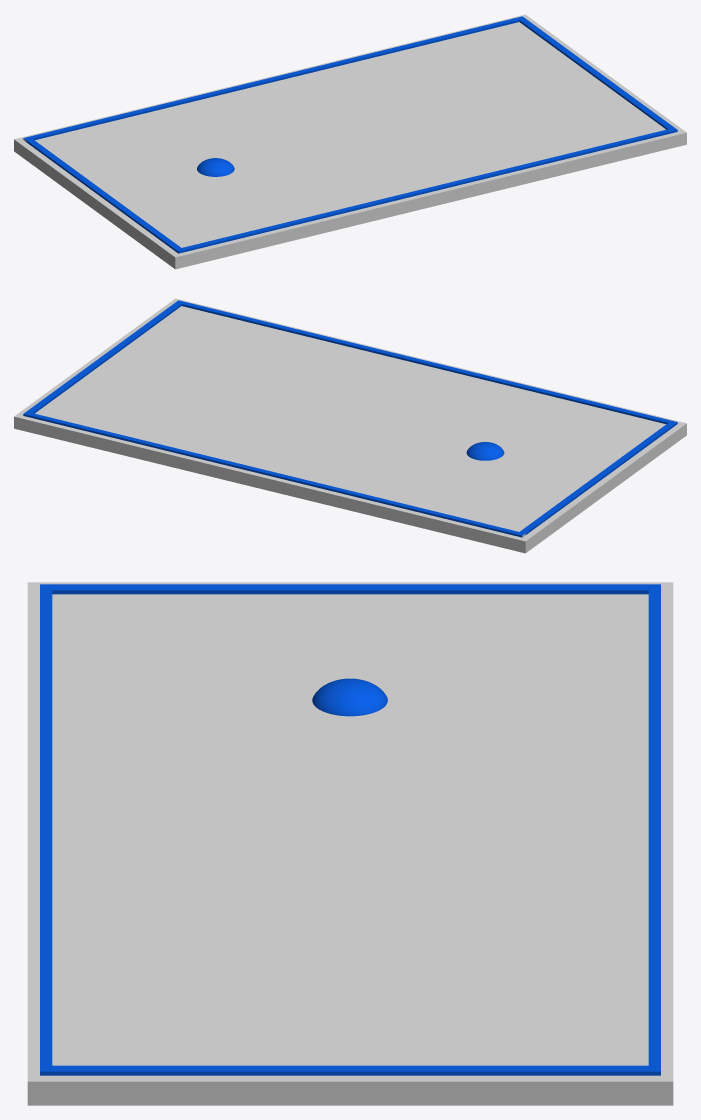
The model's file is catapult_moving_part.fbx.
The picture shows the model from 3 angles, top to bottom: view 1: azimuth 30°, elevation 25°; view 2: azimuth 150°, elevation 25°; view 3: azimuth 270°, elevation 25°; orthographic projection. The views are drawn at different scales.
Visible parts, largest first — view 1: Cube.001; view 2: Cube.001; view 3: Cube.001.
Boxes of the visible parts, x1,y1,x2,y2 form: Cube.001: [14, 14, 686, 269]; Cube.001: [14, 298, 686, 553]; Cube.001: [27, 582, 673, 1105].
Bounding box in the file's own units: 200 × 7.54 × 109.
